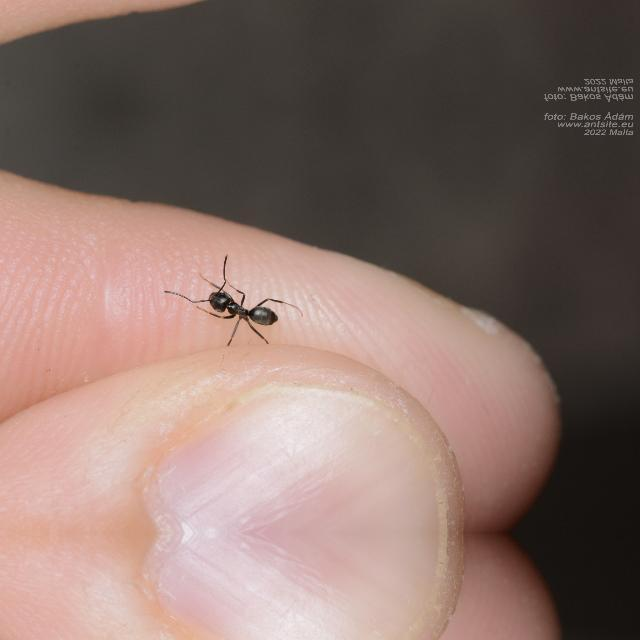Tapinoma: (186, 274, 290, 336)
